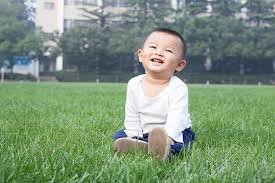child: (114, 27, 202, 159)
